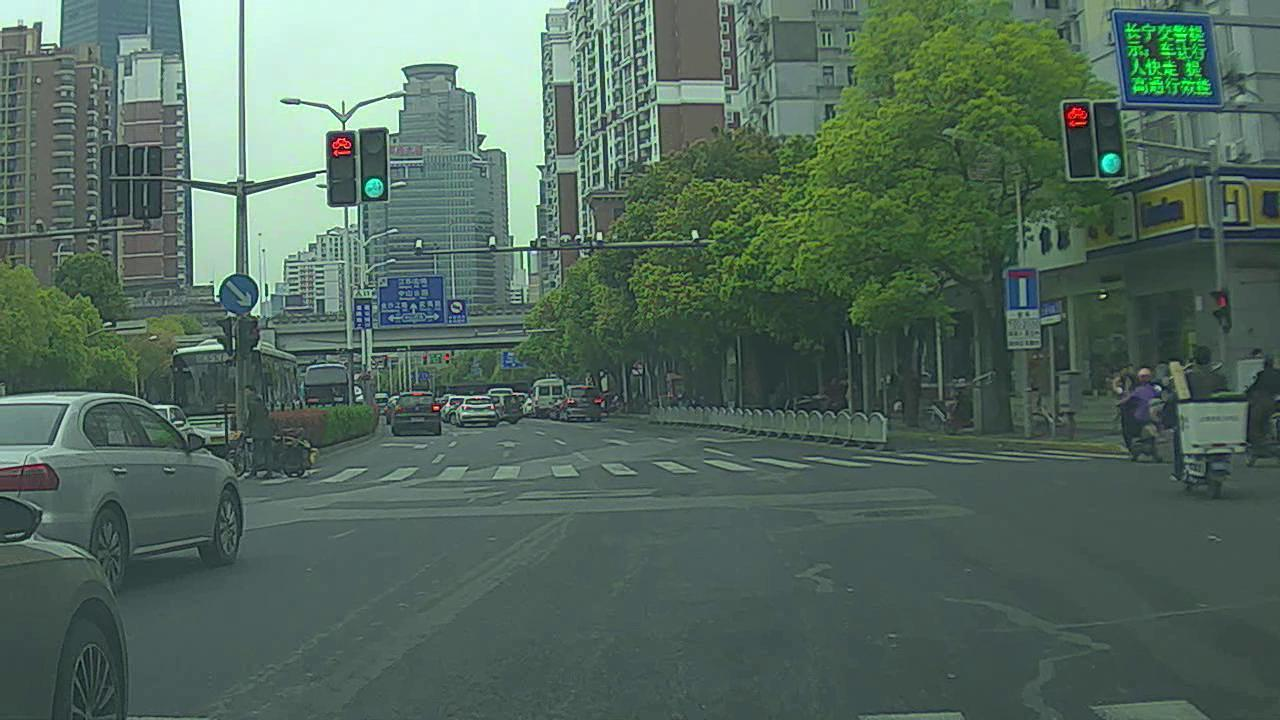traffic_light: (1059, 99, 1099, 181), (1098, 103, 1132, 182), (360, 131, 392, 205), (326, 132, 358, 204)
